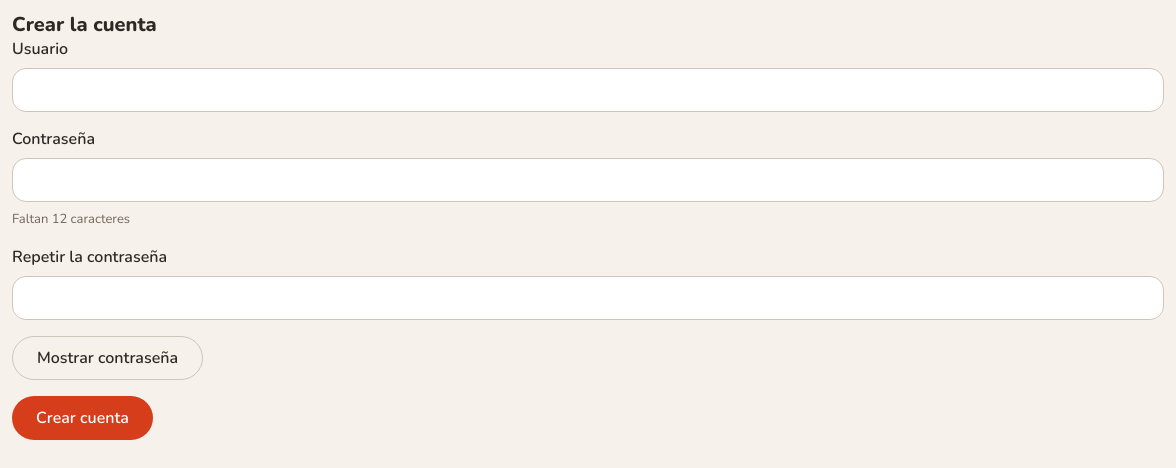
CreateAccountForm: resultados del servidor › muestra el aviso al fallar y lo quita al completar el envío siguiente
Type "Ana" into the field labelled "Usuario".
click(588, 90); type("Ana")  # box top-left (12, 68), bottom-right (1164, 112)
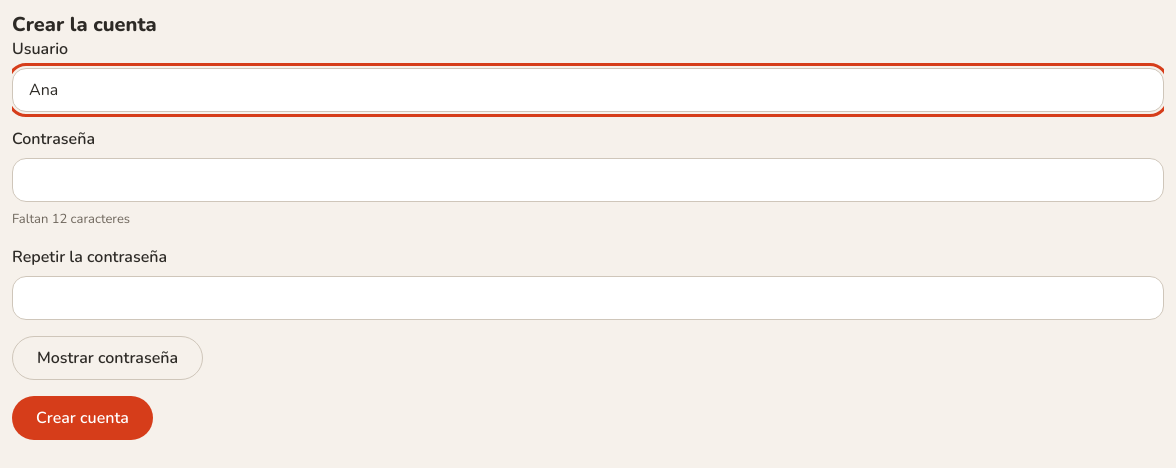
Type "una frase larga y secreta" into the password field labelled "Contraseña".
click(588, 180); type("una frase larga y secreta")  # box top-left (12, 158), bottom-right (1164, 202)
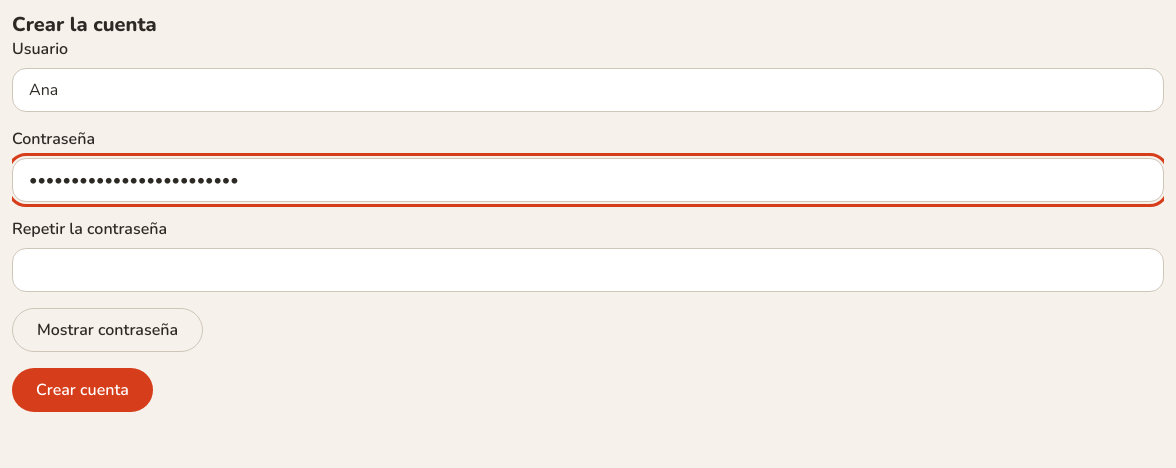
Type "una frase larga y secreta" into the password field labelled "Repetir la contraseña".
click(588, 270); type("una frase larga y secreta")  # box top-left (12, 248), bottom-right (1164, 292)
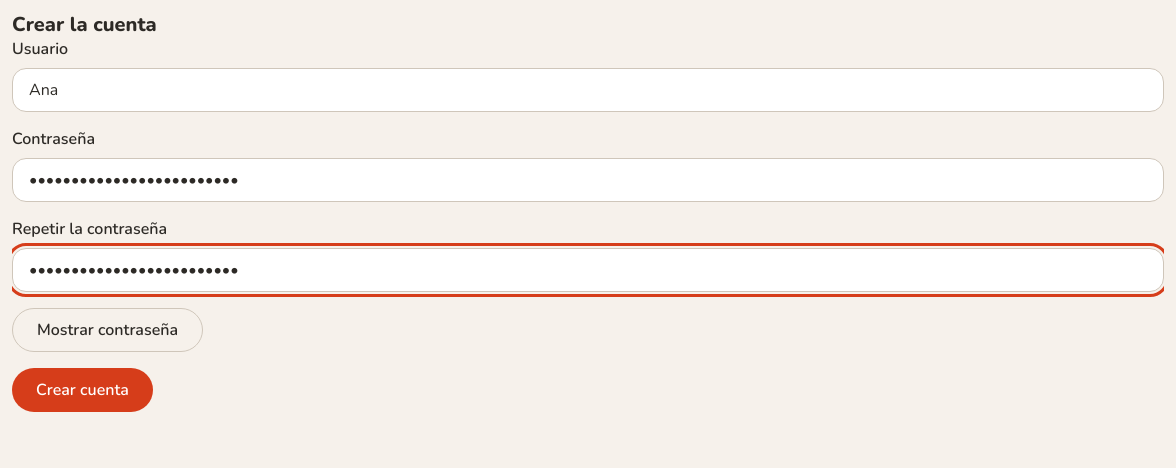
Click the button "Crear cuenta".
click(82, 390)  # box top-left (12, 368), bottom-right (153, 412)
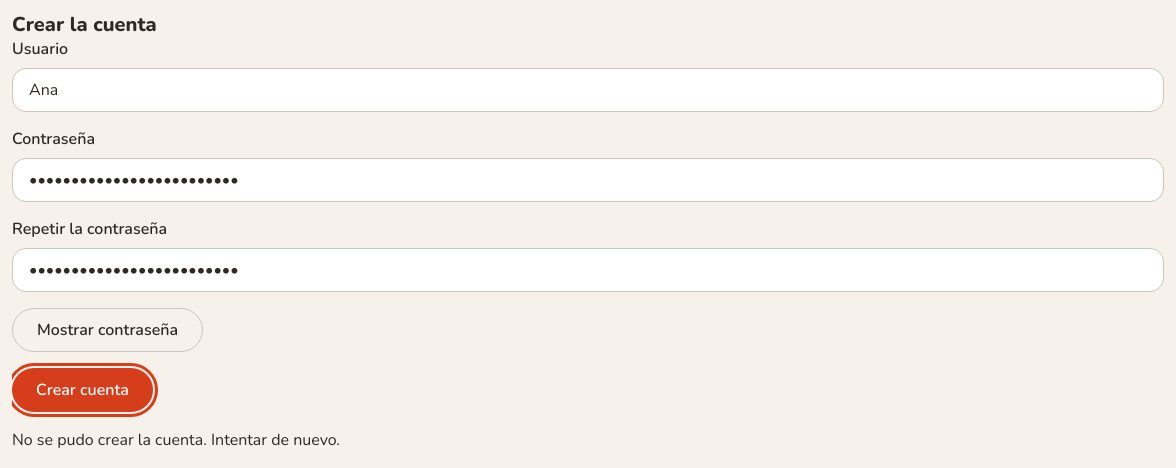
Expected: the message reads "No se pudo crear la cuenta. Intentar de nuevo.", top-left (12, 429), bottom-right (340, 451)
Click the button "Crear cuenta".
click(82, 390)  # box top-left (12, 368), bottom-right (153, 412)
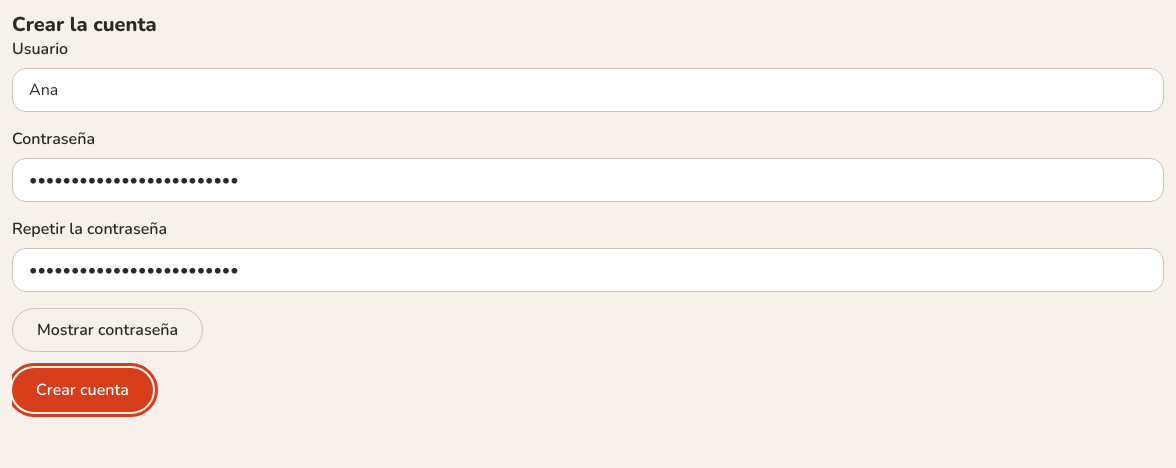
Expected: the message "No se pudo crear la cuenta. Intentar de nuevo." is gone
